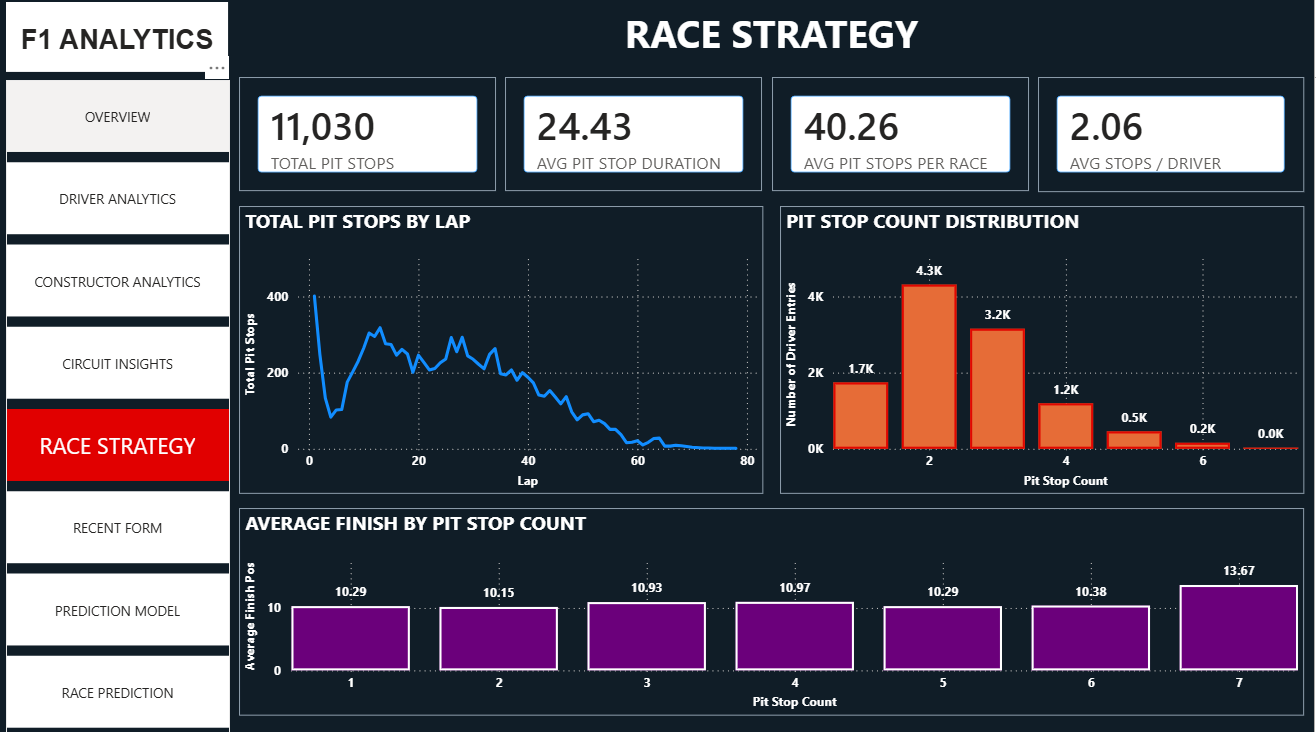

The dashboard page shown, as its layout file describes it:
{"tool":"powerbi","page":{"name":"RACE STRATEGY","canvas":[1280,720],"ordinal":4},"visuals":[{"type":"lineChart","title":"TOTAL PIT STOPS BY LAP","fields":{"Y":["pit_stops_clean.Total Pit Stops"],"Category":["pit_stops_clean.lap"]},"box":[234.4,206.3,510,280.1],"z":0},{"type":"clusteredColumnChart","title":"PIT STOP COUNT DISTRIBUTION","fields":{"Y":["CountNonNull(pit_stops_clean.driverId)"],"Category":["pit_stops_clean.Pit Stop Count"]},"box":[760.4,206.3,510,280.1],"z":1000},{"type":"clusteredColumnChart","title":"AVERAGE FINISH BY PIT STOP COUNT","fields":{"Category":["pit_stops_clean.Pit Stop Count"],"Y":["pit_stops_clean.Average Finish by Pit Stop Count"]},"box":[234.4,499.6,1036.1,202],"z":2000},{"type":"textbox","box":[8.2,8.2,216.4,68.2],"z":4000},{"type":"pageNavigator","title":"              F1 ANALYTICS","box":[8.2,83.6,217.3,635.5],"z":5000},{"type":"textbox","box":[234.5,8.2,1036.4,68.2],"z":6000},{"type":"cardVisual","fields":{"Data":["pit_stops_clean.Average Pit Stops per Race"]},"box":[752.6,81,250,111.5],"z":8000},{"type":"cardVisual","fields":{"Data":["pit_stops_clean.Average Pit Stop Duration"]},"box":[493.5,81,250,111.5],"z":9000},{"type":"cardVisual","fields":{"Data":["Dim Season.Tooltip Total Pit Stops"]},"box":[234.3,81,250,111.5],"z":10000},{"type":"cardVisual","fields":{"Data":["pit_stops_clean.Average Pit Stops per Driver"]},"box":[1011.6,80.7,258.7,111.9],"z":11000}]}

Visuals, with their boxes in screenshot pixels (x1, y1, x2, y2), scaled from the page's 1280x720 canvas onto the 1316x732 screenshot:
"TOTAL PIT STOPS BY LAP" lineChart: BBox(241, 210, 765, 495)
"PIT STOP COUNT DISTRIBUTION" clusteredColumnChart: BBox(782, 210, 1306, 495)
"AVERAGE FINISH BY PIT STOP COUNT" clusteredColumnChart: BBox(241, 508, 1306, 713)
textbox: BBox(8, 8, 231, 78)
"              F1 ANALYTICS" pageNavigator: BBox(8, 85, 232, 731)
textbox: BBox(241, 8, 1307, 78)
cardVisual - pit_stops_clean.Average Pit Stops per Race: BBox(774, 82, 1031, 196)
cardVisual - pit_stops_clean.Average Pit Stop Duration: BBox(507, 82, 764, 196)
cardVisual - Dim Season.Tooltip Total Pit Stops: BBox(241, 82, 498, 196)
cardVisual - pit_stops_clean.Average Pit Stops per Driver: BBox(1040, 82, 1306, 196)
